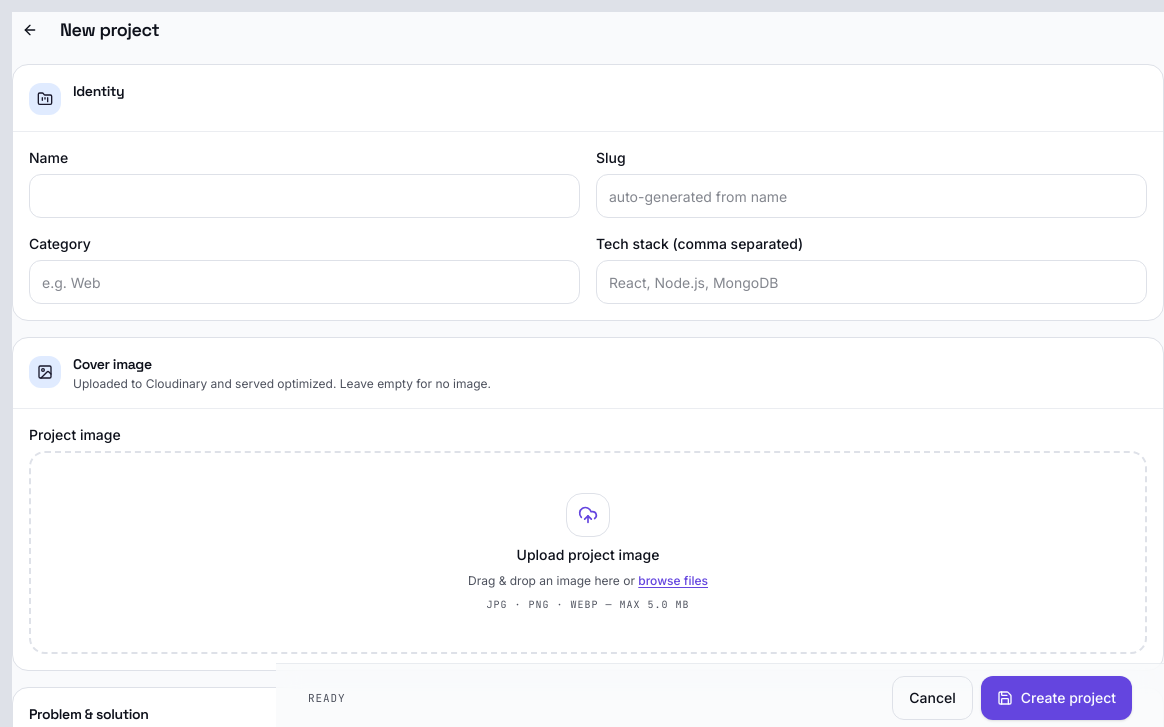
ProjectEditor — dirty state lifecycle › 4. a successful creation clears the dirty state
Type "Alpha" into the field labelled "Name" at (304,196), box [29, 174, 580, 218]
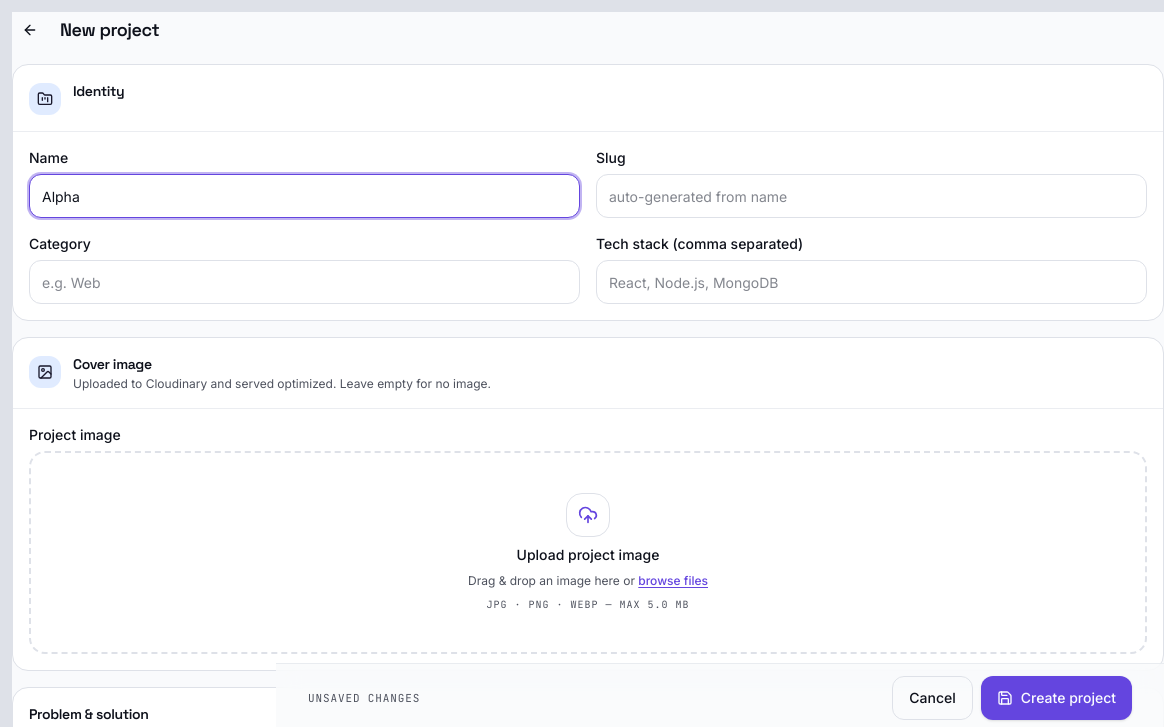
Type "Web app" into the field labelled "Category" at (304,282), box [29, 260, 580, 304]
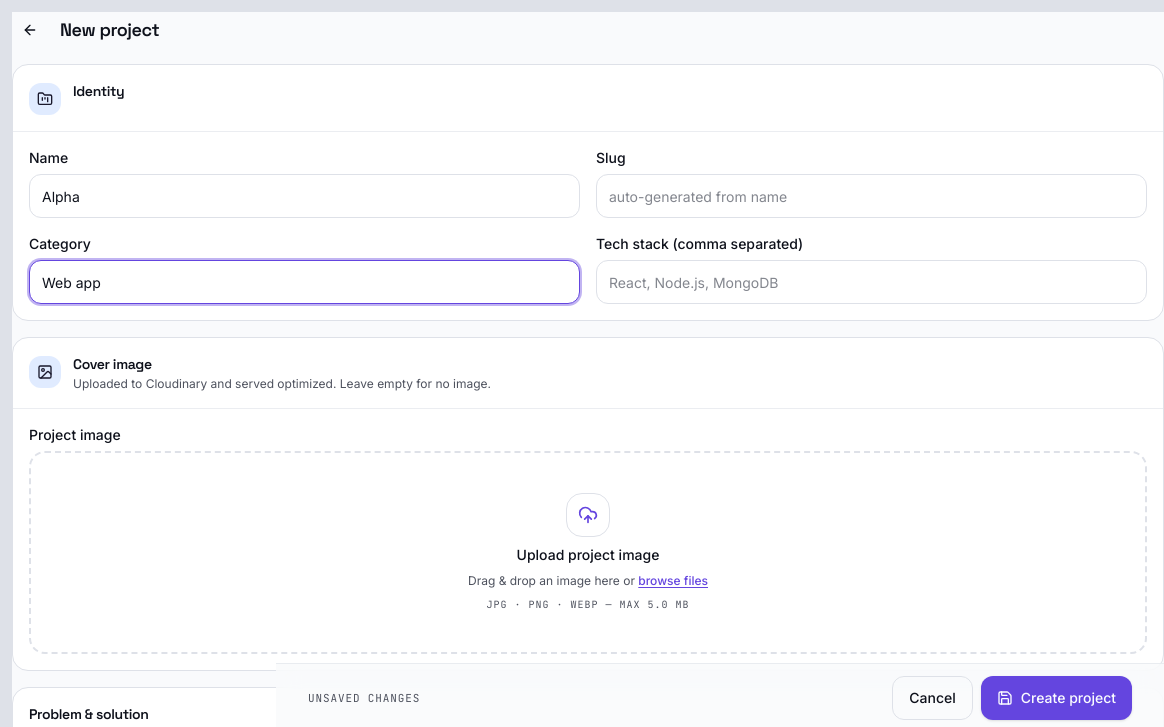
Click the button "Create project" at (1056,698), box [981, 676, 1132, 720]
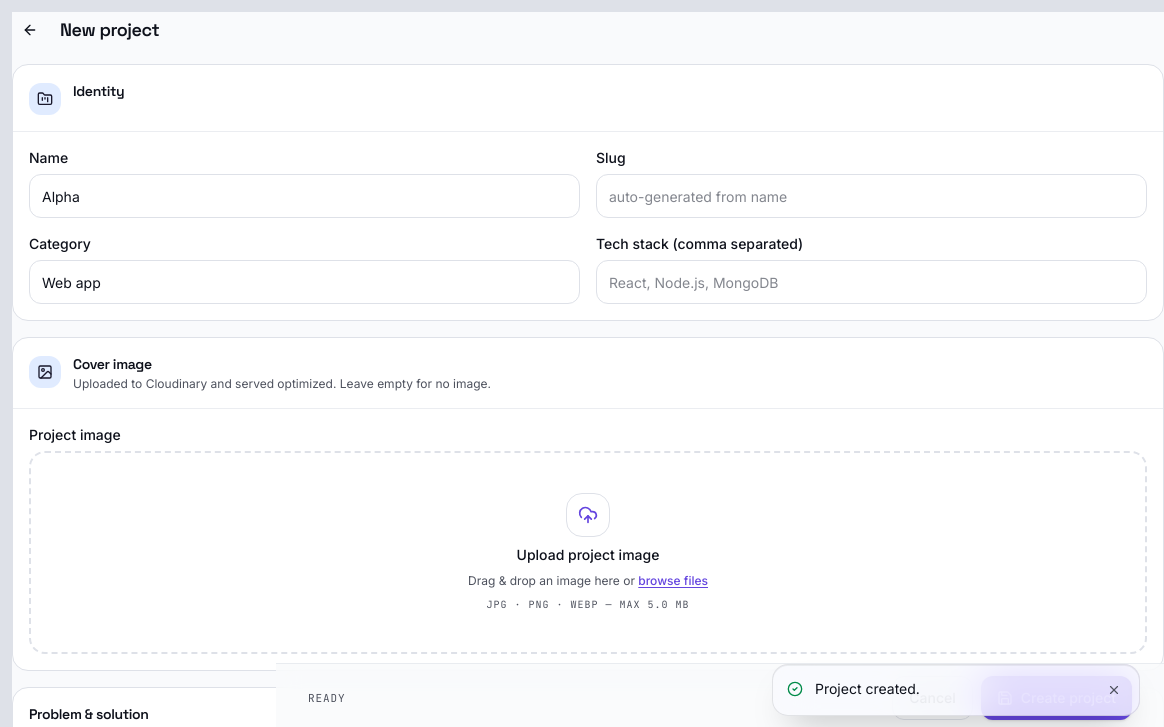
Expected: the text "Ready" is shown, [308, 690, 345, 706]
